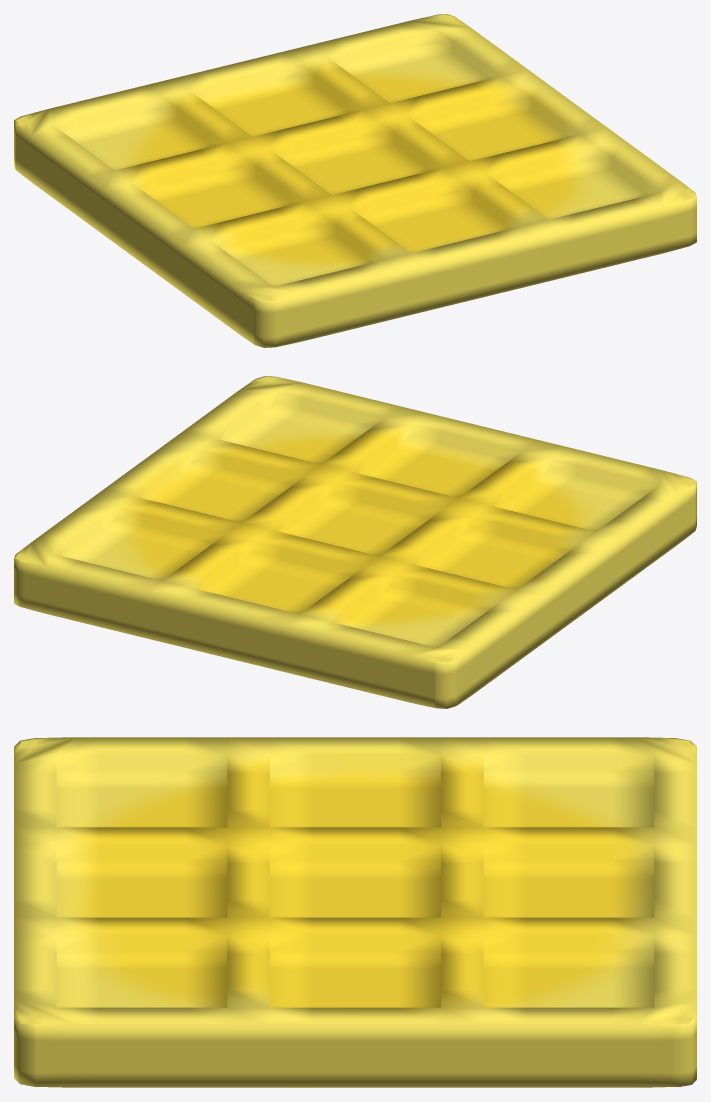
File: waffle.fbx
The picture shows the model from 3 angles, top to bottom: view 1: azimuth 30°, elevation 25°; view 2: azimuth 150°, elevation 25°; view 3: azimuth 270°, elevation 25°; orthographic projection. The views are drawn at different scales.
Visible parts, largest first — view 1: Cube; view 2: Cube; view 3: Cube.
Part boxes in pixels (x1,y1,x2,y2): Cube: [14, 14, 696, 347]; Cube: [14, 376, 696, 708]; Cube: [14, 737, 696, 1087].
Size of the model in its own units: 0.2 by 0.02 by 0.2.
Materials: 1 (1 with a texture image).
